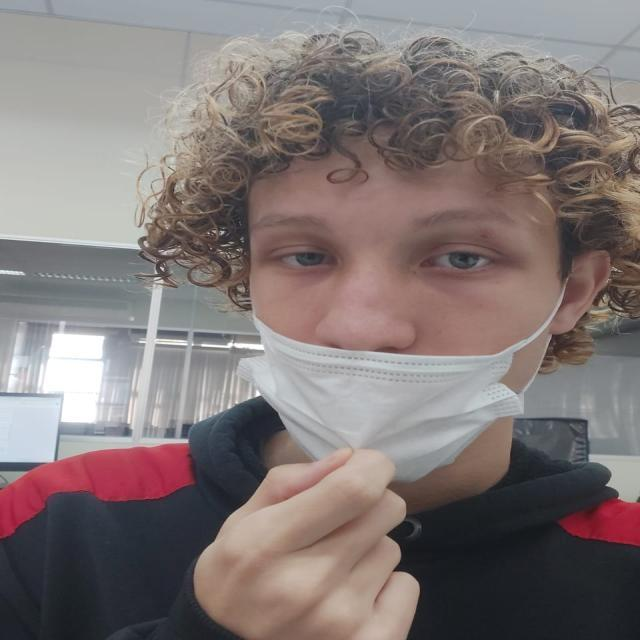hairnet: (244, 180, 548, 460)
